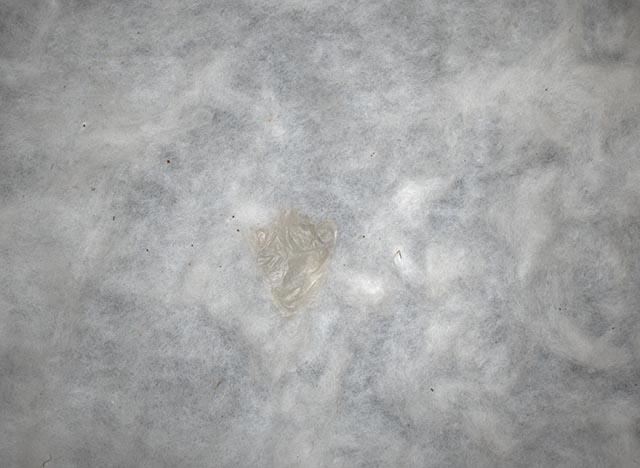plastic film: (247, 206, 338, 323)
